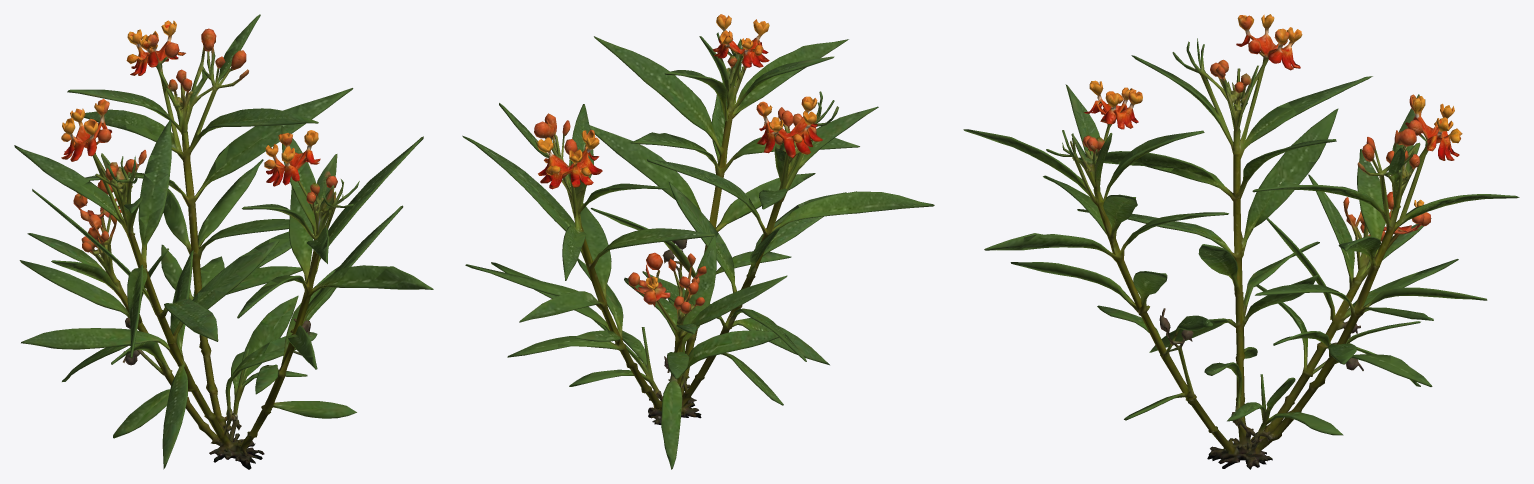
File: planta_hospedera_danaus.fbx
3 renders of one model, left to right at view 1: azimuth 30°, elevation 25°; view 2: azimuth 150°, elevation 25°; view 3: azimuth 270°, elevation 25°, orthographic. The views are drawn at different scales.
Visible parts, largest first — view 1: tripo_node_3da36b5a; view 2: tripo_node_3da36b5a; view 3: tripo_node_3da36b5a.
Boxes of the visible parts, box(x1,y1,x2,y2) form: tripo_node_3da36b5a: box(14, 14, 433, 469); tripo_node_3da36b5a: box(462, 14, 934, 469); tripo_node_3da36b5a: box(963, 14, 1519, 469).
Size of the model in its own units: 8.61 by 8.52 by 11.44.
Materials: 1 (1 with a texture image).
